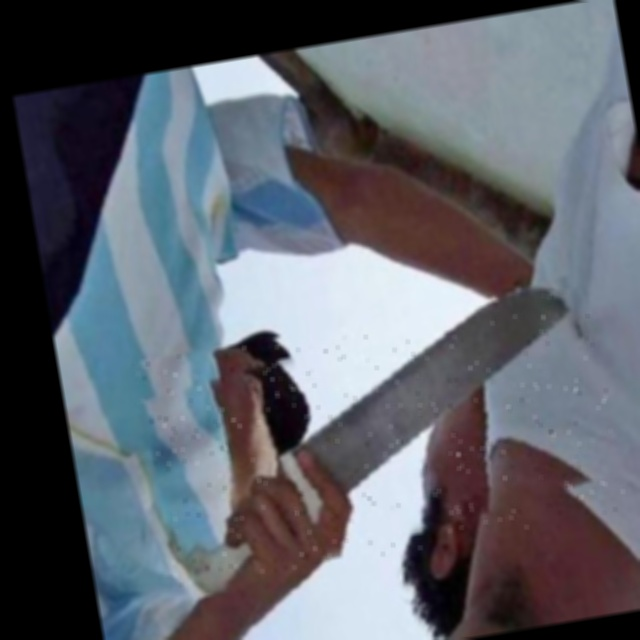Sharp-Object: (135, 286, 628, 590)
